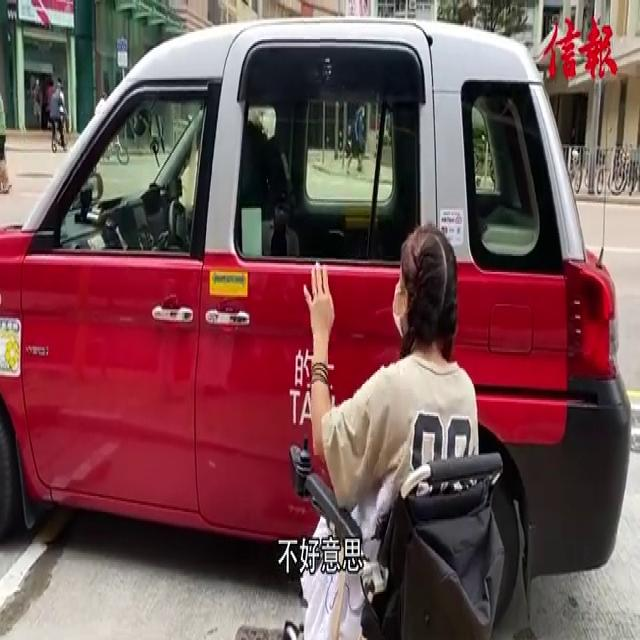wheelchairs: (272, 415, 549, 640)
